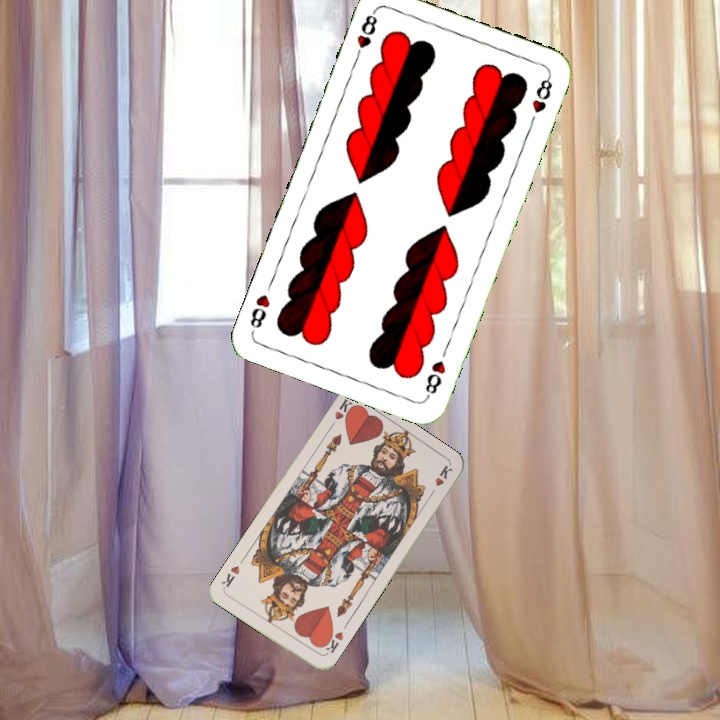H8: (351, 6, 380, 64), (421, 356, 448, 401)
HK: (324, 395, 356, 433), (318, 626, 346, 658)
